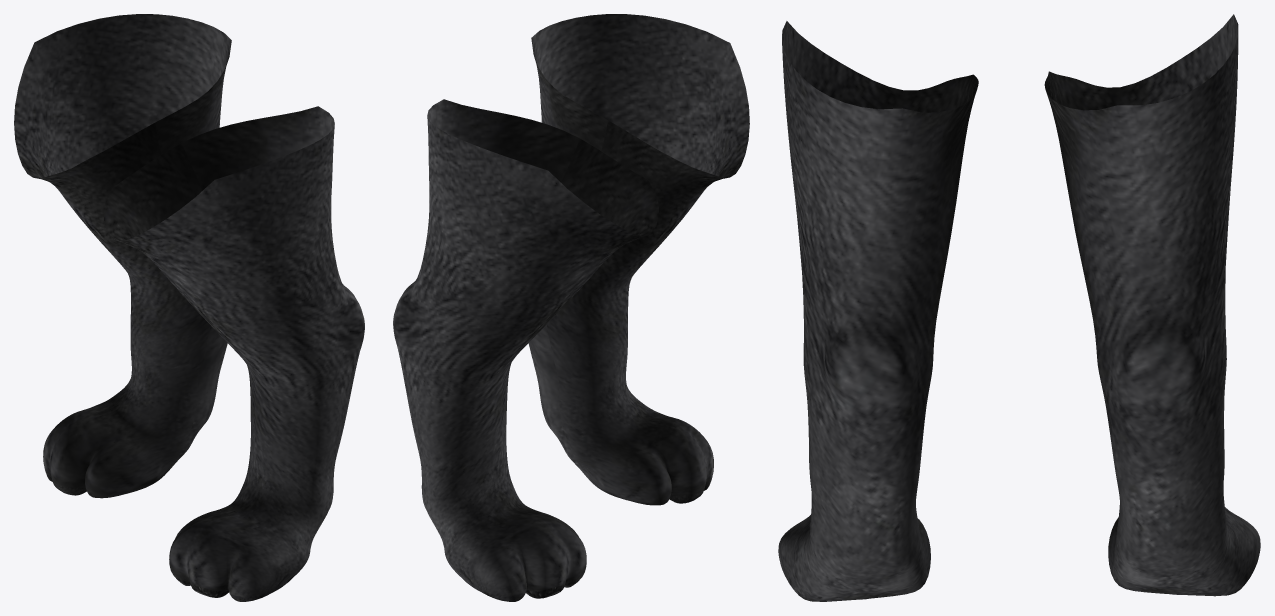
The model's file is patasTraseras.fbx.
3 views of the same model, side by side, from view 1: azimuth 30°, elevation 25°; view 2: azimuth 150°, elevation 25°; view 3: azimuth 270°, elevation 25° (orthographic). The views are drawn at different scales.
Parts seen in each view (by area): view 1: Cat.002; view 2: Cat.002; view 3: Cat.002.
Part boxes in pixels (x1,y1,x2,y2): Cat.002: (14,14,364,601); Cat.002: (393,14,749,601); Cat.002: (778,14,1260,601).
Size of the model in its own units: 863 by 1593 by 1255.
